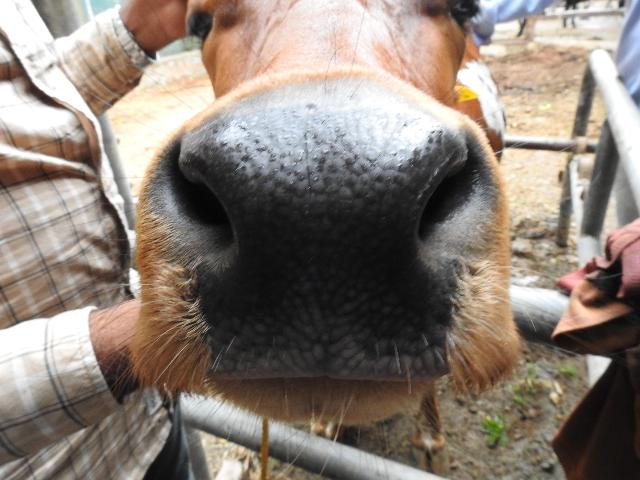Muzzle: (210, 118, 430, 364)
